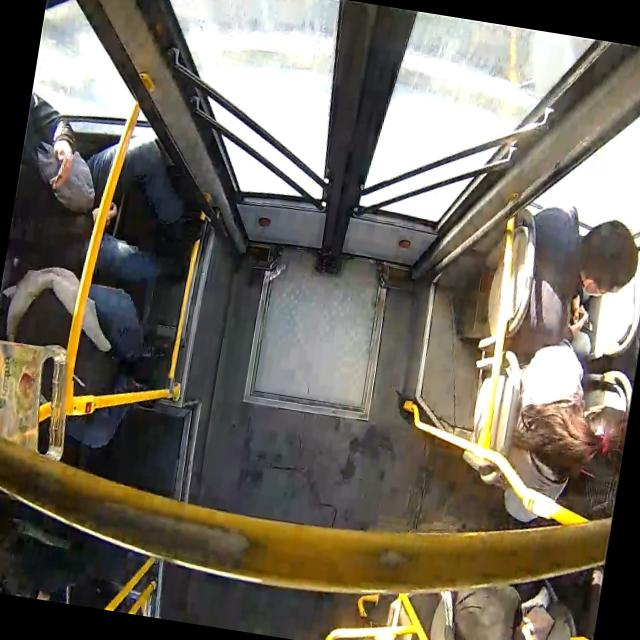bus-door: (75, 0, 640, 276)
